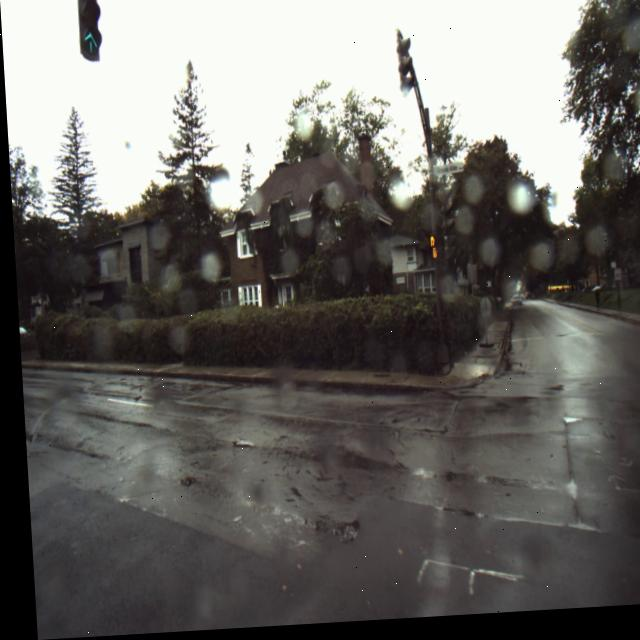car: (505, 299, 519, 315)
trafficLight: (397, 43, 413, 99), (423, 235, 436, 267)
trafficLight-Green: (76, 0, 103, 65)
